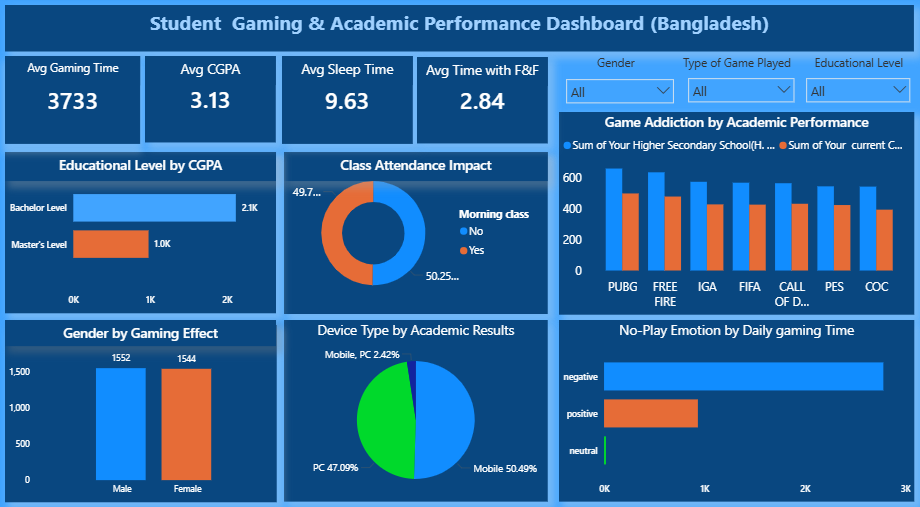

What the dashboard file says about the page in this screenshot:
{"tool":"powerbi","page":{"name":"Dashboard","canvas":[1280,720],"ordinal":2},"visuals":[{"type":"donutChart","fields":{"Category":["data.Do you attend your morning class regularly?"],"Y":["Sum(data.When you go to sleep?)"]},"box":[398.1,216.7,362.8,223.4],"z":0},{"type":"pieChart","title":"Device Type by Academic Results ","fields":{"Category":["data.Do you play games on mobile or pc?"],"Y":["Sum(data.Your  current CGPA?)"]},"box":[398.1,446.8,362.8,250.3],"z":1000},{"type":"textbox","box":[398.1,216.7,362.8,40.3],"z":2000},{"type":"clusteredColumnChart","title":"Game Addiction by Academic Performance","fields":{"Category":["data.Which type of game you addict more?"],"Y":["Sum(data.Your Higher Secondary School(H. SC) or A level or equivalent result?)","Sum(data.Your  current CGPA?)"]},"box":[776.1,161.3,488.8,278.8],"z":3000},{"type":"textbox","box":[13.4,13.4,1251.4,63.8],"z":4000},{"type":"columnChart","title":"c","fields":{"Category":["data.Gender?"],"Y":["Sum(data.Your  current CGPA?)"]},"box":[13.4,454.2,373.8,243.5],"z":4000,"group":"g2"},{"type":"group","id":"g1","title":"Group 1","box":[13.4,216.7,372.9,223.4],"z":5000},{"type":"textbox","box":[14,446.8,372.9,36.4],"z":5000,"group":"g2"},{"type":"group","id":"g2","title":"Group 2","box":[13.4,446.8,372.9,250.3],"z":6000},{"type":"barChart","fields":{"Category":["data.Current educational position?"],"Y":["Sum(data.Your  current CGPA?)"]},"box":[13.4,216.7,372.9,221.7],"z":7000,"group":"g1"},{"type":"barChart","title":"No-Play Emotion by Daily gaming Time ","fields":{"Category":["data.How you fill when you can not play game in whole day?"],"Y":["Sum(data.The average time you spend playing games?)"]},"box":[776.1,446.8,488.8,250.3],"z":7000},{"type":"card","fields":{"Values":["Sum(data.The average time you spend playing games?)"]},"box":[13.4,84,186.5,120.9],"z":8000},{"type":"textbox","box":[13.4,216.7,372.9,39.8],"z":8000,"group":"g1"},{"type":"textbox","box":[13.4,84,186.5,40.3],"z":9000},{"type":"card","fields":{"Values":["Avg(data.Your  current CGPA?)"]},"box":[206.6,84,179.7,119.3],"z":10000},{"type":"textbox","box":[206.6,84,179.7,40.3],"z":11000},{"type":"card","fields":{"Values":["Avg(data.When you go to sleep?)"]},"box":[394.8,84,179.7,120.9],"z":12000},{"type":"textbox","box":[394.8,84,179.7,40.3],"z":13000},{"type":"card","fields":{"Values":["Avg(data.How many time you spend with family and friend?)"]},"box":[581.2,85.7,179.7,119.3],"z":14000},{"type":"textbox","box":[581.2,85.7,179.7,40.3],"z":15000},{"type":"slicer","title":"Gender","fields":{"Values":["data.Gender?"]},"box":[776.1,105.8,168,58.8],"z":16000},{"type":"textbox","box":[776.1,77.3,156.2,33.6],"z":17000},{"type":"slicer","fields":{"Values":["data.Which type of game you addict more?"]},"box":[944,104.1,166.3,50.4],"z":18000},{"type":"slicer","fields":{"Values":["data.Current educational position?"]},"box":[1107,104.1,162.9,50.4],"z":19000},{"type":"textbox","box":[934,77.3,173,33.6],"z":20000},{"type":"textbox","box":[1110.3,77.3,156.2,33.6],"z":21000}]}

Visuals, with their boxes in screenshot pixels (x1, y1, x2, y2), scaled from the page's 1280x720 canvas onto the 920x507 screenshot:
donutChart - data.Do you attend your morning class regularly? x Sum(data.When you go to sleep?): bbox=(286, 153, 547, 310)
"Device Type by Academic Results " pieChart: bbox=(286, 315, 547, 491)
textbox: bbox=(286, 153, 547, 181)
"Game Addiction by Academic Performance" clusteredColumnChart: bbox=(558, 114, 909, 310)
textbox: bbox=(10, 9, 909, 54)
"c" columnChart: bbox=(10, 320, 278, 491)
"Group 1" group: bbox=(10, 153, 278, 310)
textbox: bbox=(10, 315, 278, 340)
"Group 2" group: bbox=(10, 315, 278, 491)
barChart - data.Current educational position? x Sum(data.Your  current CGPA?): bbox=(10, 153, 278, 309)
"No-Play Emotion by Daily gaming Time " barChart: bbox=(558, 315, 909, 491)
card - Sum(data.The average time you spend playing games?): bbox=(10, 59, 144, 144)
textbox: bbox=(10, 153, 278, 181)
textbox: bbox=(10, 59, 144, 88)
card - Avg(data.Your  current CGPA?): bbox=(148, 59, 278, 143)
textbox: bbox=(148, 59, 278, 88)
card - Avg(data.When you go to sleep?): bbox=(284, 59, 413, 144)
textbox: bbox=(284, 59, 413, 88)
card - Avg(data.How many time you spend with family and friend?): bbox=(418, 60, 547, 144)
textbox: bbox=(418, 60, 547, 89)
"Gender" slicer: bbox=(558, 75, 679, 116)
textbox: bbox=(558, 54, 670, 78)
slicer - data.Which type of game you addict more?: bbox=(678, 73, 798, 109)
slicer - data.Current educational position?: bbox=(796, 73, 913, 109)
textbox: bbox=(671, 54, 796, 78)
textbox: bbox=(798, 54, 910, 78)
